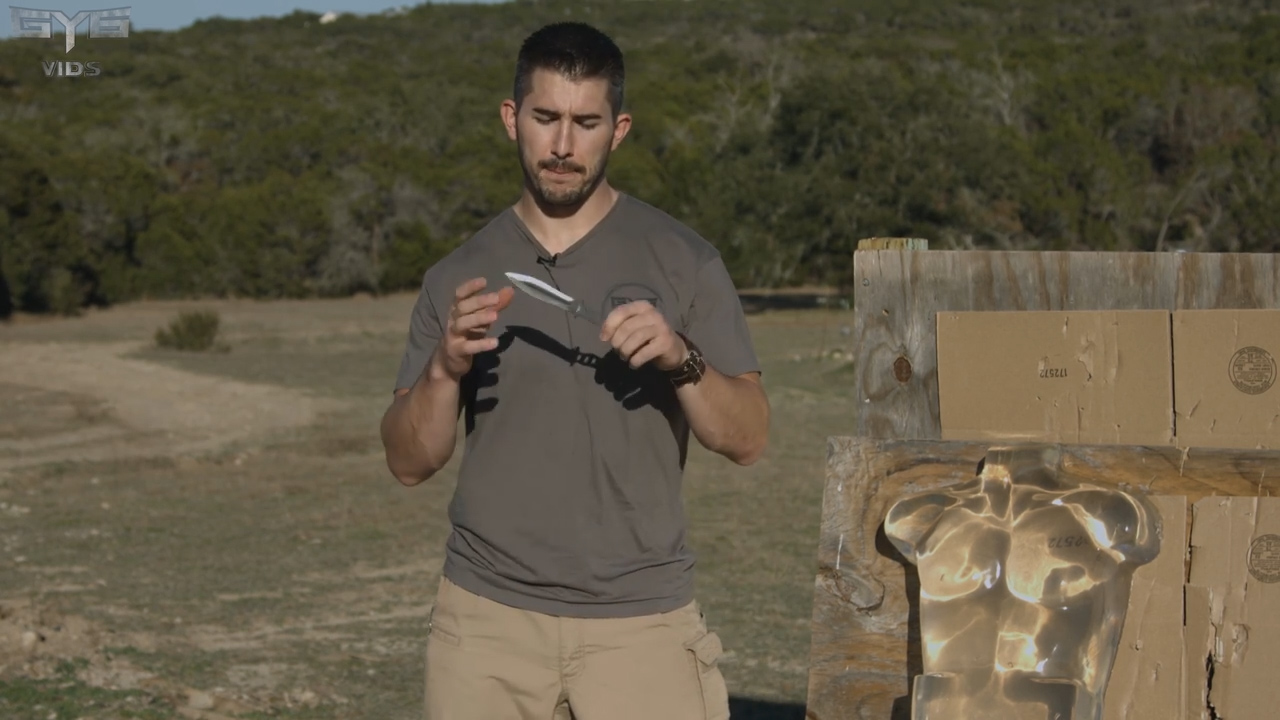knife: (496, 262, 663, 376)
